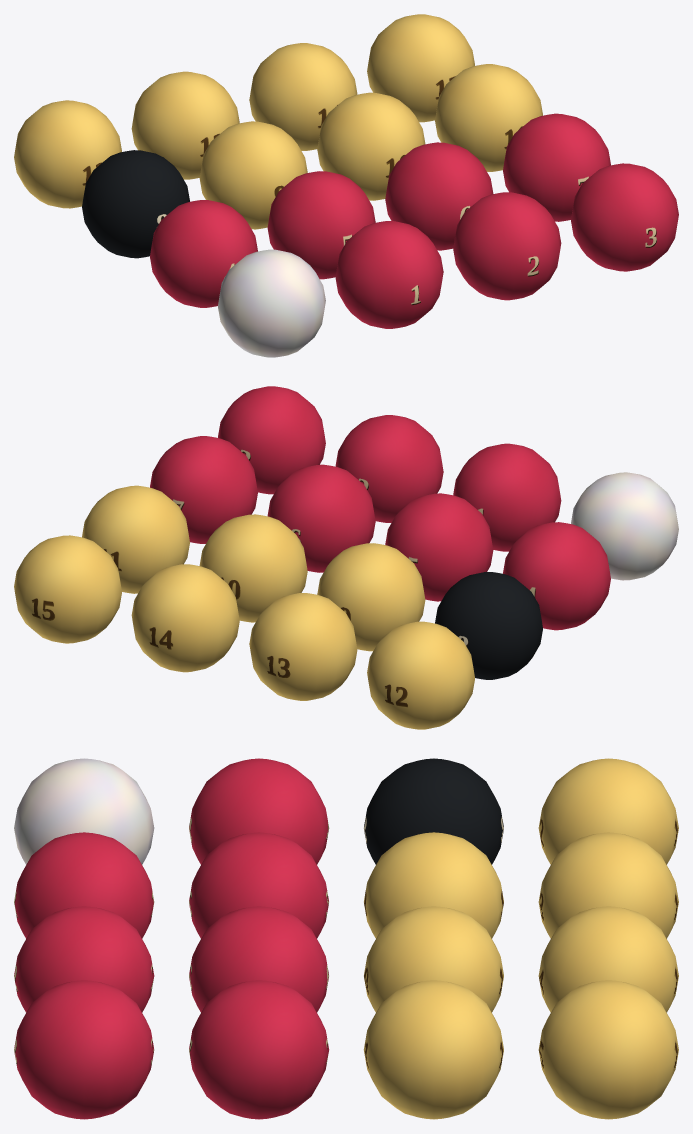
Rendered from balls-hot.glb.
3 renders of one model, top to bottom at view 1: azimuth 30°, elevation 25°; view 2: azimuth 150°, elevation 25°; view 3: azimuth 270°, elevation 25°, orthographic. The views are drawn at different scales.
Parts seen in each view (by area): view 1: ball-3, ball-2, ball-0, ball-1, ball-12, ball-8, ball-4, ball-13, ball-6, ball-10, ball-7, ball-9 (+4 smaller); view 2: ball-15, ball-14, ball-12, ball-13, ball-0, ball-4, ball-8, ball-1, ball-10, ball-6, ball-5, ball-11 (+4 smaller); view 3: ball-3, ball-15, ball-7, ball-11, ball-2, ball-14, ball-0, ball-12, ball-1, ball-13, ball-4, ball-6 (+4 smaller).
Part boxes in pixels (x1,y1,x2,y2): ball-3: (571,163,678,271); ball-2: (453,192,561,300); ball-0: (218,249,325,357); ball-1: (335,221,443,328); ball-12: (14,100,121,208); ball-8: (82,150,189,258); ball-4: (150,200,257,307); ball-13: (131,71,239,179); ball-6: (385,142,493,250); ball-10: (317,92,425,200); ball-7: (503,113,610,221); ball-9: (199,121,307,229); ball-15: (14,535,121,643); ball-14: (131,564,239,672); ball-12: (367,621,474,729); ball-13: (249,593,357,700); ball-0: (571,472,678,580); ball-4: (503,522,610,630); ball-8: (435,572,542,679); ball-1: (453,443,561,551); ball-10: (199,514,307,622); ball-6: (267,464,375,572); ball-5: (385,493,493,601); ball-11: (82,485,189,593); ball-3: (14,980,154,1119); ball-15: (538,980,678,1119); ball-7: (189,980,329,1119); ball-11: (363,980,503,1119); ball-2: (14,906,154,1012); ball-14: (538,906,678,1012); ball-0: (14,758,154,864); ball-12: (538,758,678,864); ball-1: (14,832,154,938); ball-13: (538,832,678,938); ball-4: (189,758,329,864); ball-6: (189,906,328,1012).
Size of the model in its own units: 0.4278 by 0.0903 by 0.4278.
Materials: 16 (16 with a texture image).
